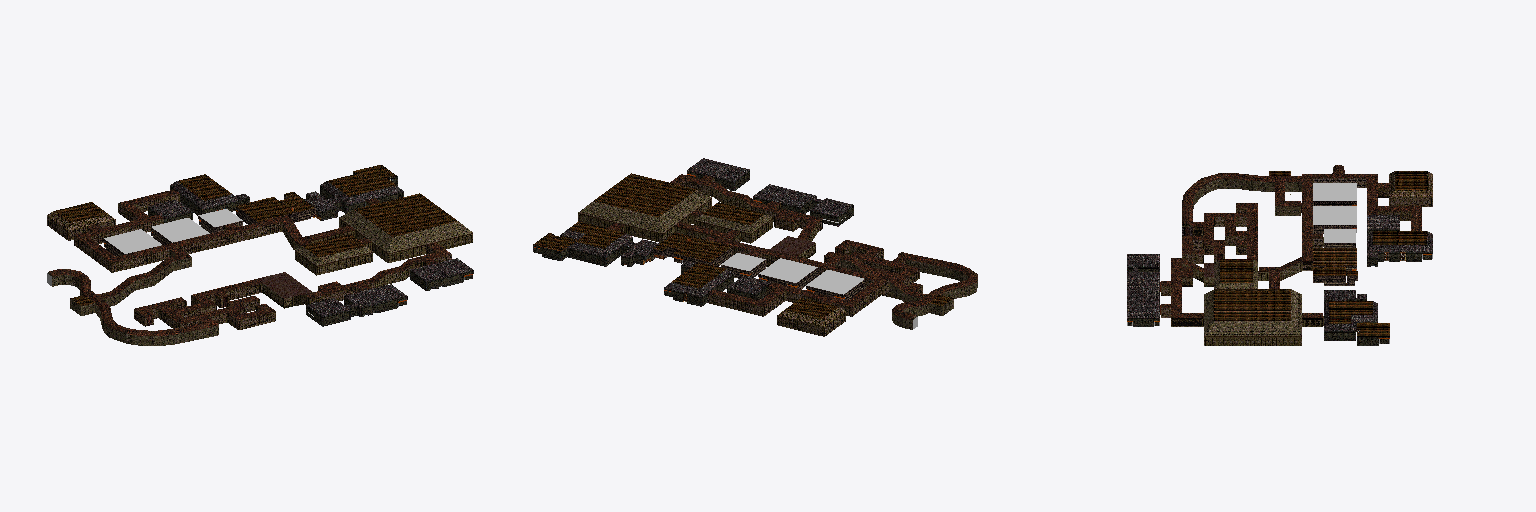
3 renders of one model, left to right at view 1: azimuth 30°, elevation 25°; view 2: azimuth 150°, elevation 25°; view 3: azimuth 270°, elevation 25°, orthographic.
Parts seen in each view (by area): view 1: Room12, Room19, Room14, Room15, Room33, Room29, Room28, Room7, Room11, Room9, Room6, Room21 (+18 smaller); view 2: Room12, Room15, Room33, Room14, Room29, Room7, Room28, Room19, Room26, Room22, Room27, Room11 (+15 smaller); view 3: Room12, Room33, Room15, Room29, Room14, Room19, Room35, Room11, Room26, Room27, Room28, Room22 (+14 smaller).
Boxes of the visible parts, x1,y1,x2,y2 form: Room12: [339, 193, 472, 262]; Room19: [112, 215, 290, 272]; Room14: [295, 234, 372, 275]; Room15: [320, 174, 403, 213]; Room33: [170, 174, 239, 215]; Room29: [47, 202, 115, 240]; Room28: [74, 215, 163, 272]; Room7: [305, 259, 413, 304]; Room11: [410, 258, 473, 290]; Room9: [344, 284, 407, 316]; Room6: [257, 272, 312, 308]; Room21: [97, 258, 172, 306]; Room12: [578, 173, 711, 242]; Room15: [560, 221, 636, 266]; Room33: [664, 262, 733, 306]; Room14: [694, 202, 772, 243]; Room29: [777, 298, 845, 336]; Room7: [714, 184, 822, 231]; Room28: [767, 279, 889, 316]; Room19: [705, 235, 887, 287]; Room26: [758, 258, 817, 288]; Room22: [673, 237, 732, 266]; Room27: [806, 270, 864, 300]; Room11: [687, 158, 749, 190]; Room12: [1204, 289, 1322, 345]; Room33: [1367, 231, 1432, 261]; Room15: [1323, 299, 1377, 340]; Room29: [1378, 171, 1432, 206]; Room14: [1214, 259, 1258, 288]; Room19: [1302, 174, 1322, 270]; Room35: [1218, 171, 1290, 191]; Room11: [1127, 294, 1160, 326]; Room26: [1313, 206, 1356, 233]; Room27: [1313, 183, 1356, 205]; Room28: [1304, 174, 1377, 214]; Room22: [1313, 248, 1356, 275].
Bounding box in the file's own units: 9760 × 1152 × 7168.
113 materials, 98 textured.